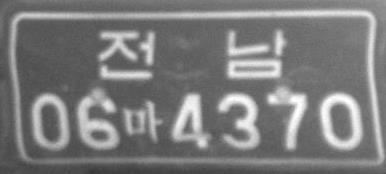0: (318, 90, 364, 152), (31, 91, 70, 152)
3: (217, 92, 262, 151)
4: (170, 92, 211, 149)
6: (74, 93, 121, 149)
7: (265, 92, 308, 152)
마: (123, 99, 163, 143)
전남_D: (98, 28, 287, 80)
